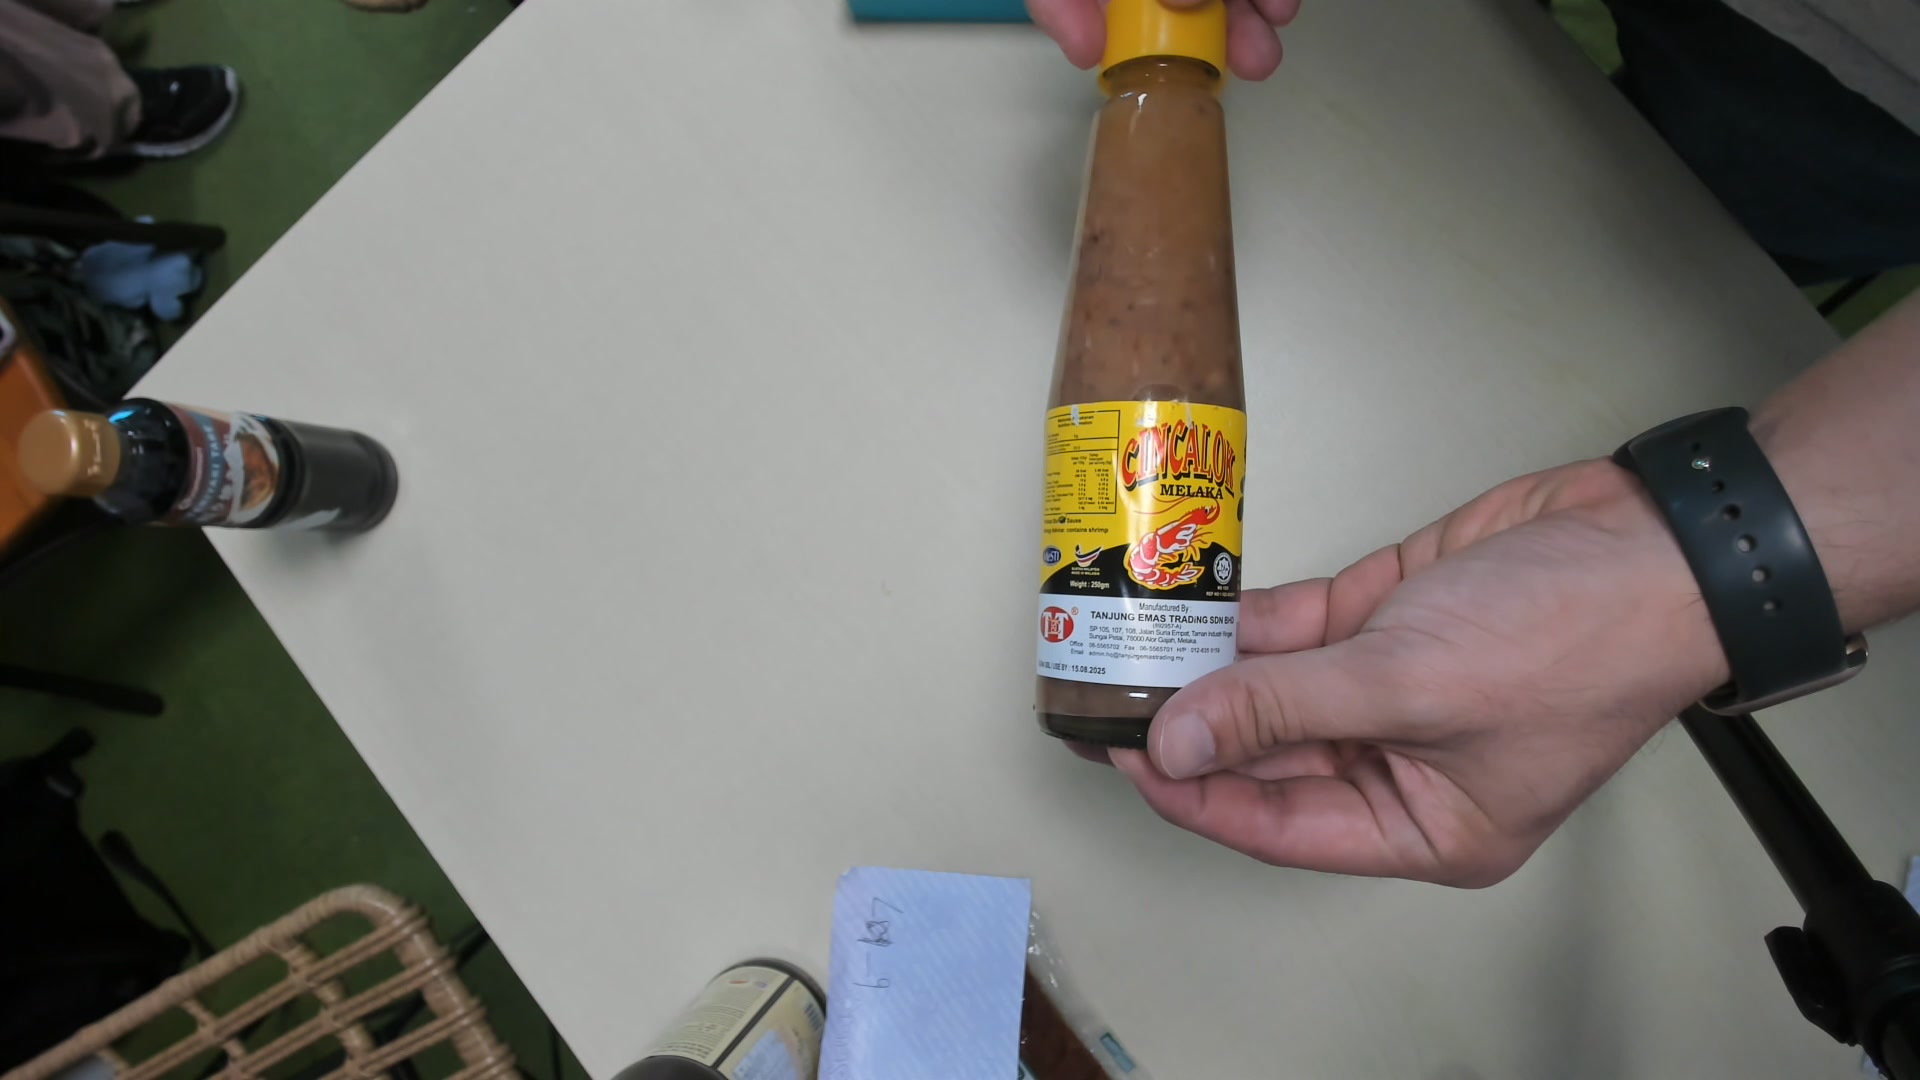OtherSauceDressingSoupbasePaste_200-299g_Halal_NonHealthy: (1033, 7, 1240, 756)
